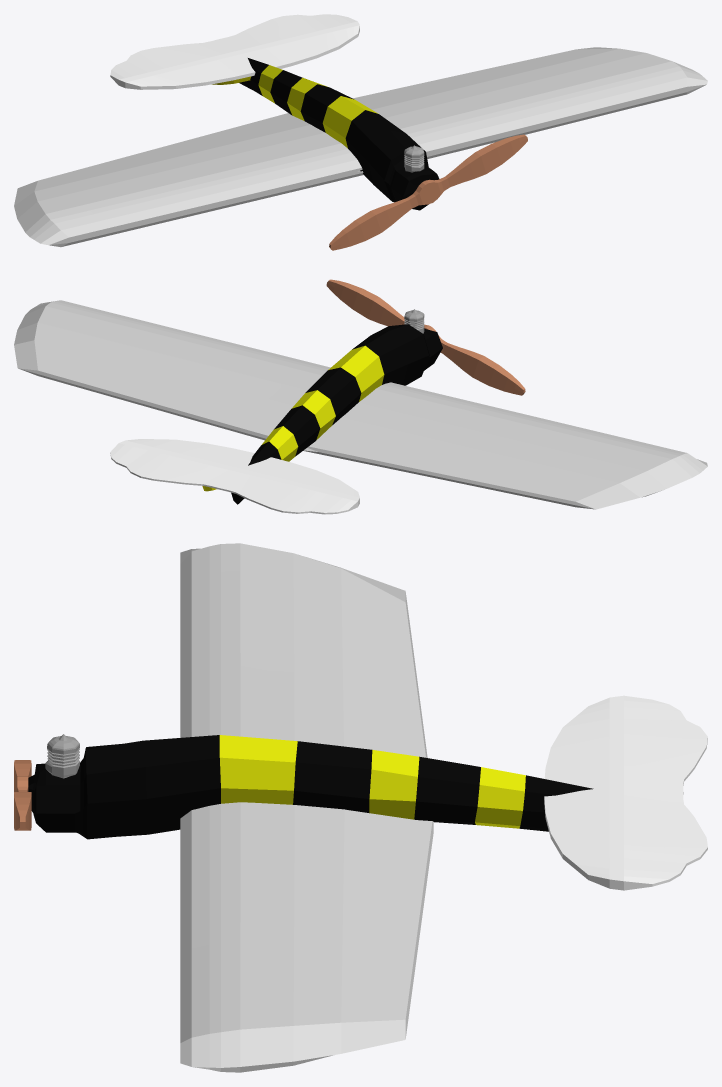
Rendered from modelairplane.glb.
3 views of the same model, one above another, from view 1: azimuth 30°, elevation 25°; view 2: azimuth 150°, elevation 25°; view 3: azimuth 270°, elevation 25° (orthographic). The views are drawn at different scales.
Parts seen in each view (by area): view 1: Cube, Cube.001, Cylinder, Cube.003, Cylinder.001, Cylinder.002; view 2: Cube, Cube.001, Cylinder, Cube.003, Cylinder.001; view 3: Cube, Cylinder, Cube.001, Cylinder.001, Cylinder.002, Cube.003.
Boxes of the visible parts, x1,y1,x2,y2 form: Cube: (14, 47, 707, 247); Cube.001: (110, 14, 359, 89); Cylinder: (239, 58, 425, 200); Cube.003: (329, 134, 527, 250); Cylinder.001: (384, 151, 439, 210); Cylinder.002: (404, 145, 424, 172); Cube: (14, 300, 707, 509); Cube.001: (110, 439, 359, 514); Cylinder: (231, 324, 428, 504); Cube.003: (326, 279, 525, 395); Cylinder.001: (395, 324, 442, 370); Cube: (180, 543, 433, 1072); Cylinder: (85, 735, 593, 839); Cube.001: (544, 695, 707, 890); Cylinder.001: (28, 747, 87, 838); Cylinder.002: (45, 734, 79, 778); Cube.003: (14, 760, 31, 830).
Bounding box in the file's own units: 9.99 × 1.03 × 5.63.
